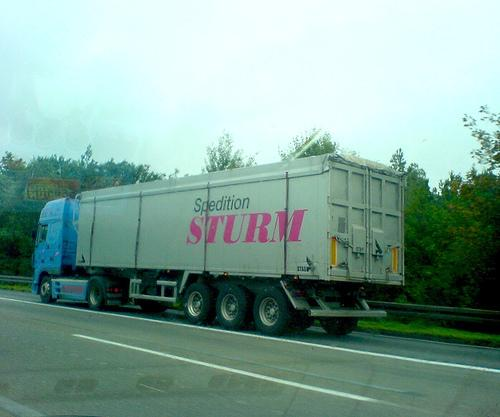truck: (30, 151, 408, 336)
